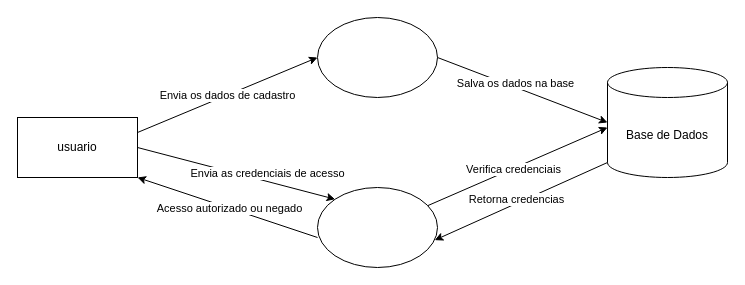
The diagram is 745 pixels wide and 285 high, and some of its shapes have lost their labels. The shapes that lost their labels are listed below. From the top down, each one's box as (x1, y1, x2, y2) in pixels, then its label:
(316, 16, 438, 98): Cadastro de Usuário
(316, 186, 438, 268): Login de Usuário
